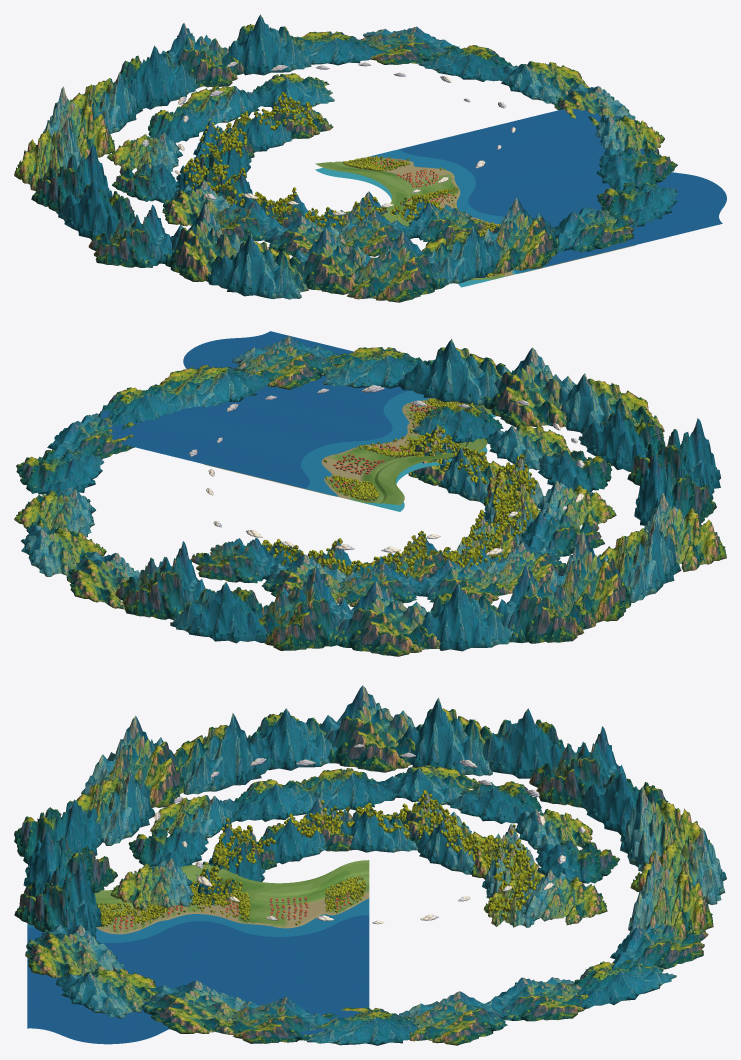
File: valley.glb
3 renders of one model, top to bottom at view 1: azimuth 30°, elevation 25°; view 2: azimuth 150°, elevation 25°; view 3: azimuth 270°, elevation 25°, orthographic. The views are drawn at different scales.
Visible parts, largest first — view 1: ValleyMountainsB, ValleyMountains, ValleyWater, ValleyMidMountains, ValleyMidMountainsB, ValleyPanoramaForest, ValleyFoothillsB, ValleyTerrain, ValleyFoothills, ValleyForestFar, ValleyForest; view 2: ValleyMountainsB, ValleyMountains, ValleyWater, ValleyMidMountainsB, ValleyMidMountains, ValleyPanoramaForest, ValleyFoothillsB, ValleyTerrain, ValleyFoothills, ValleyForestFar, ValleyForest, ValleyCloudsC (+1 smaller); view 3: ValleyMountainsB, ValleyMountains, ValleyWater, ValleyMidMountains, ValleyMidMountainsB, ValleyFoothillsB, ValleyPanoramaForest, ValleyTerrain, ValleyFoothills, ValleyForestFar, ValleyForest, ValleyVillageLonghouse (+1 smaller).
Boxes of the visible parts, x1,y1,x2,y2 form: ValleyMountainsB: (31, 14, 678, 302); ValleyMountains: (14, 23, 677, 294); ValleyWater: (315, 108, 726, 287); ValleyMidMountains: (107, 86, 485, 256); ValleyMidMountainsB: (112, 73, 407, 256); ValleyPanoramaForest: (182, 92, 439, 229); ValleyFoothillsB: (199, 113, 387, 227); ValleyTerrain: (315, 156, 635, 280); ValleyFoothills: (176, 94, 439, 238); ValleyForestFar: (357, 155, 504, 274); ValleyForest: (342, 158, 499, 277); ValleyMountainsB: (16, 336, 726, 651); ValleyMountains: (14, 347, 716, 656); ValleyWater: (100, 331, 496, 511); ValleyMidMountainsB: (190, 424, 616, 606); ValleyMidMountains: (261, 403, 612, 604); ValleyPanoramaForest: (262, 424, 537, 576); ValleyFoothillsB: (308, 447, 540, 582); ValleyTerrain: (204, 400, 492, 504); ValleyFoothills: (264, 426, 543, 578); ValleyForestFar: (323, 398, 456, 498); ValleyForest: (352, 401, 473, 501); ValleyCloudsC: (208, 385, 584, 552); ValleyMountainsB: (14, 698, 713, 1045); ValleyMountains: (23, 685, 726, 1045); ValleyWater: (27, 898, 369, 1044); ValleyMidMountains: (110, 768, 619, 910); ValleyMidMountainsB: (128, 765, 607, 925); ValleyFoothillsB: (202, 808, 545, 898); ValleyPanoramaForest: (196, 790, 539, 919); ValleyTerrain: (94, 860, 369, 934); ValleyFoothills: (194, 793, 539, 927); ValleyForestFar: (99, 887, 365, 927); ValleyForest: (96, 876, 365, 916); ValleyVillageLonghouse: (113, 895, 350, 931).
Size of the model in its own units: 3513 by 422 by 3339.
Materials: 16 (5 with a texture image).
